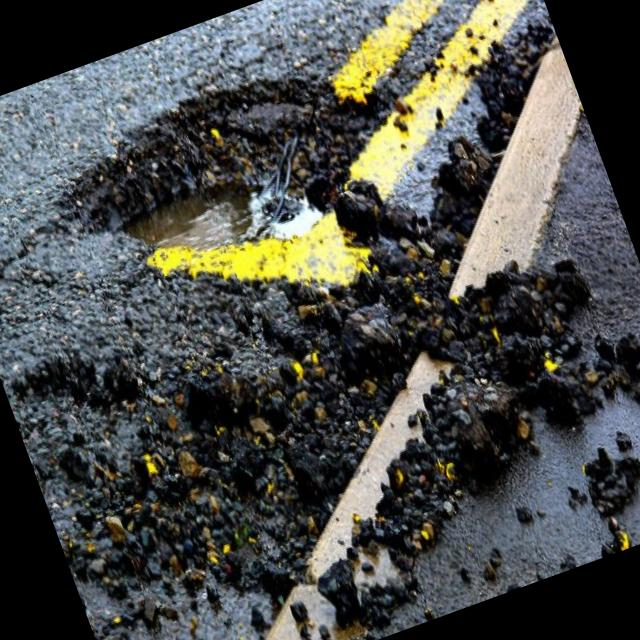Potholes: (14, 0, 510, 491)
